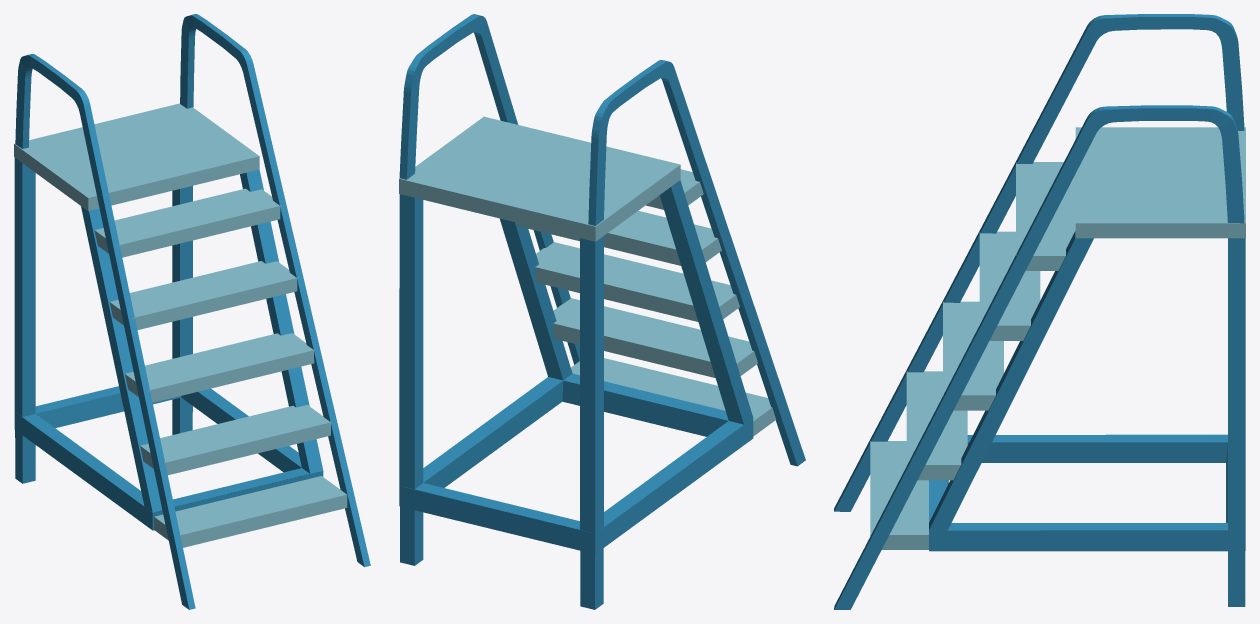
The model's file is Stairs1.fbx.
3 renders of one model, left to right at view 1: azimuth 30°, elevation 25°; view 2: azimuth 150°, elevation 25°; view 3: azimuth 270°, elevation 25°, orthographic. The views are drawn at different scales.
Visible parts, largest first — view 1: Stairs1; view 2: Stairs1; view 3: Stairs1.
Part boxes in pixels (<box>): Stairs1: <box>14,14,370,609</box>; Stairs1: <box>399,14,805,609</box>; Stairs1: <box>834,14,1245,609</box>.
Size of the model in its own units: 533 by 1218 by 912.
